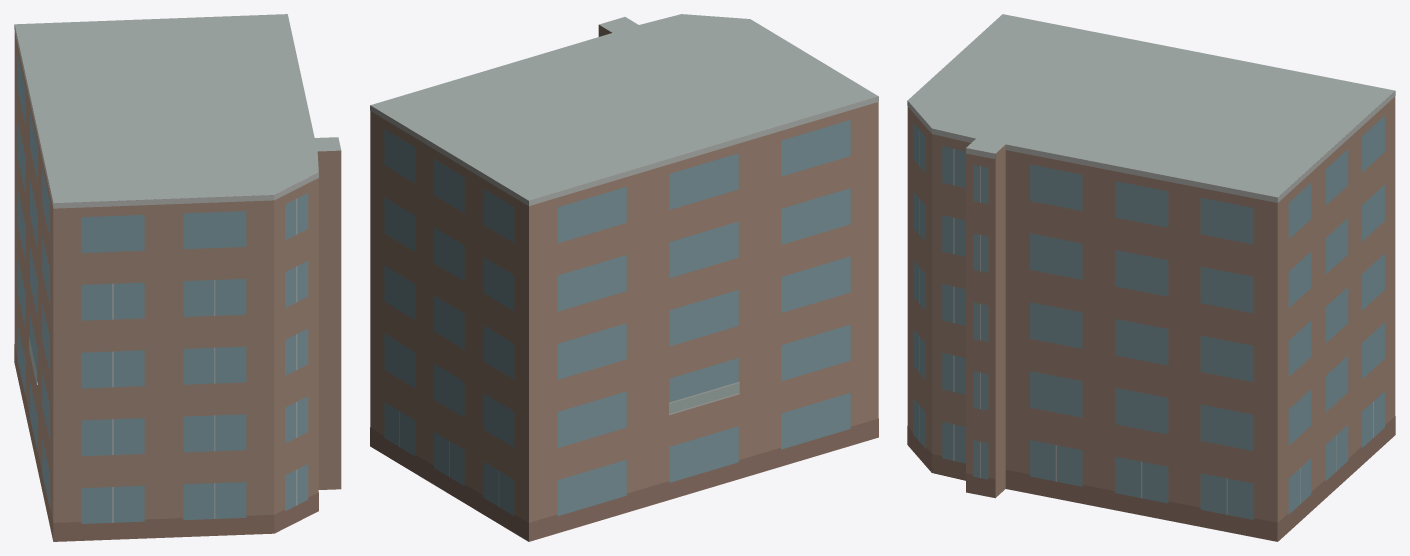
The model's file is survey-upis-32663351.glb.
3 renders of one model, left to right at view 1: azimuth 30°, elevation 25°; view 2: azimuth 150°, elevation 25°; view 3: azimuth 270°, elevation 25°, orthographic.
Parts seen in each view (by area): view 1: survey-upis-32663351.tmp; view 2: survey-upis-32663351.tmp; view 3: survey-upis-32663351.tmp.
Part boxes in pixels (x1,y1,x2,y2): survey-upis-32663351.tmp: (14, 14, 341, 541); survey-upis-32663351.tmp: (370, 14, 878, 541); survey-upis-32663351.tmp: (907, 14, 1395, 541).
Bounding box in the file's own units: 17.37 × 15.2 × 19.52.
